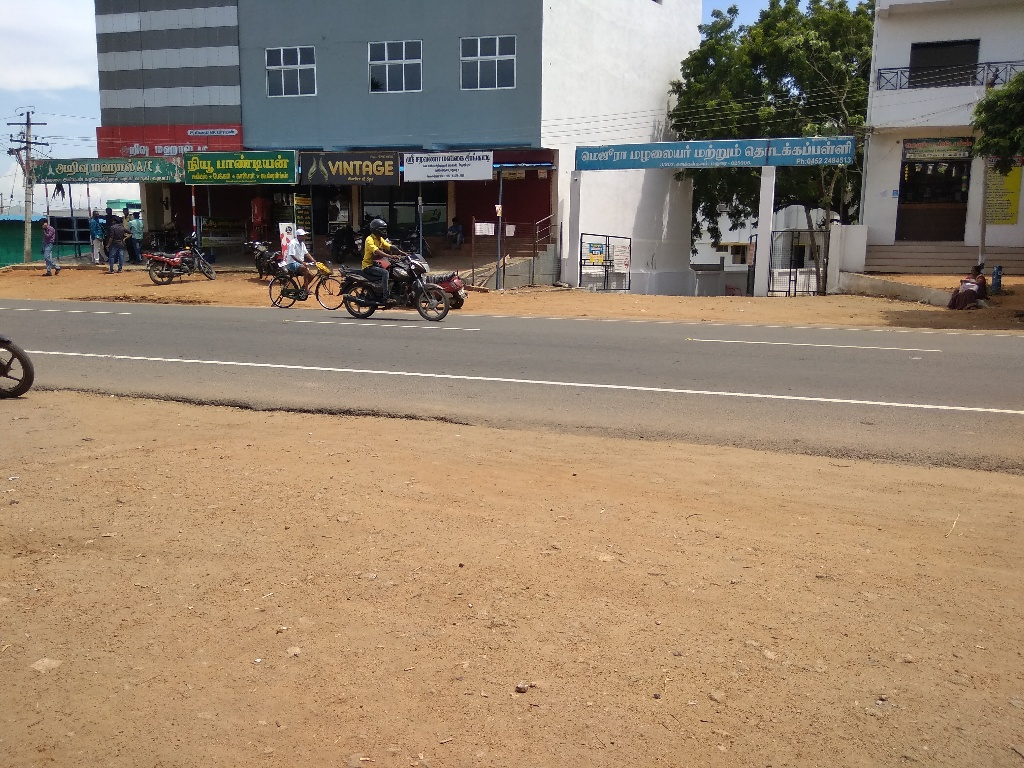biker: (327, 187, 460, 330)
helmet: (364, 204, 399, 248)
